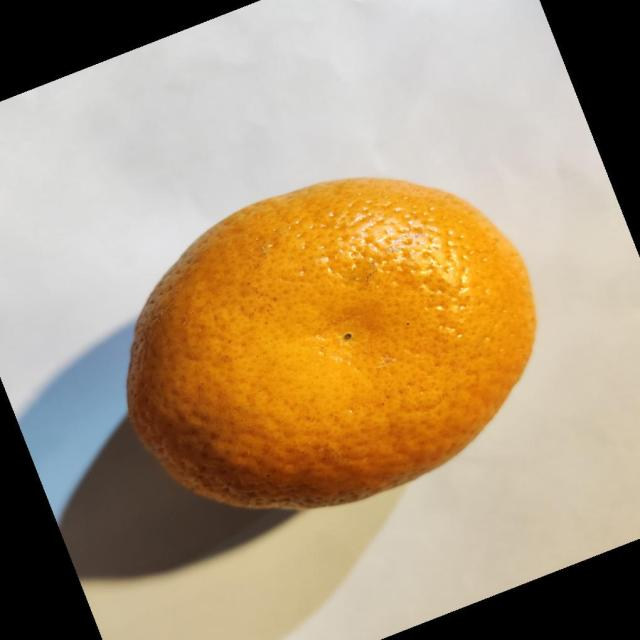fresh orange: (125, 175, 537, 511)
